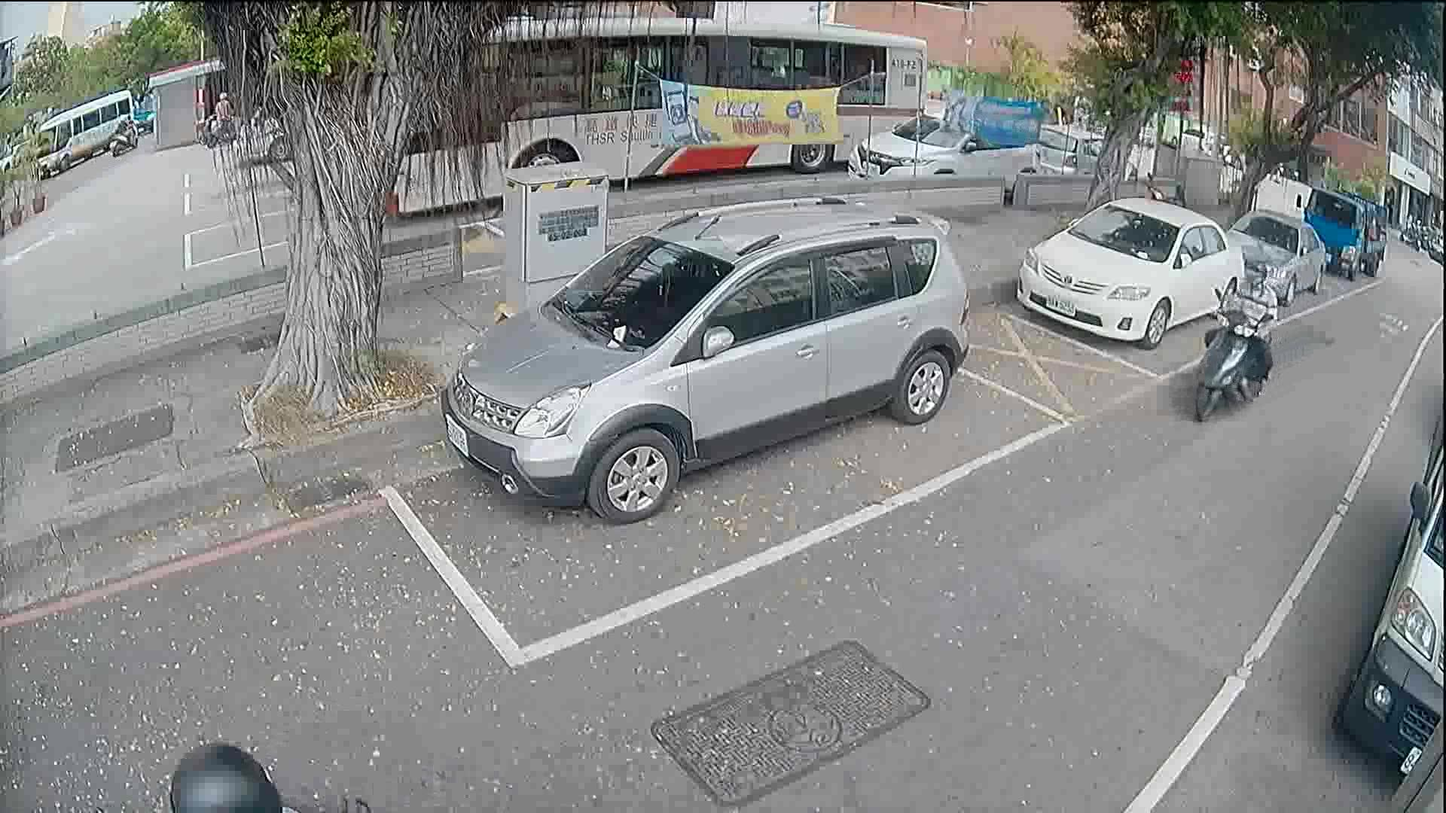person: (1200, 265, 1281, 397), (162, 729, 292, 811), (208, 85, 232, 143), (114, 111, 136, 143)
